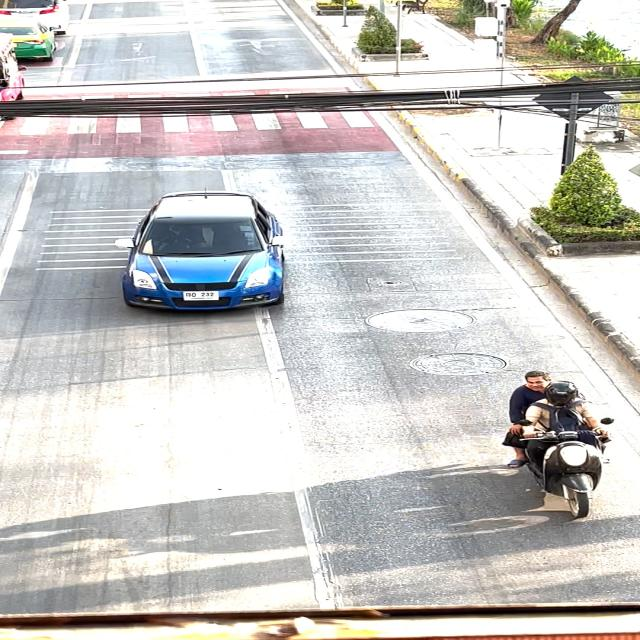car: (92, 155, 322, 327)
